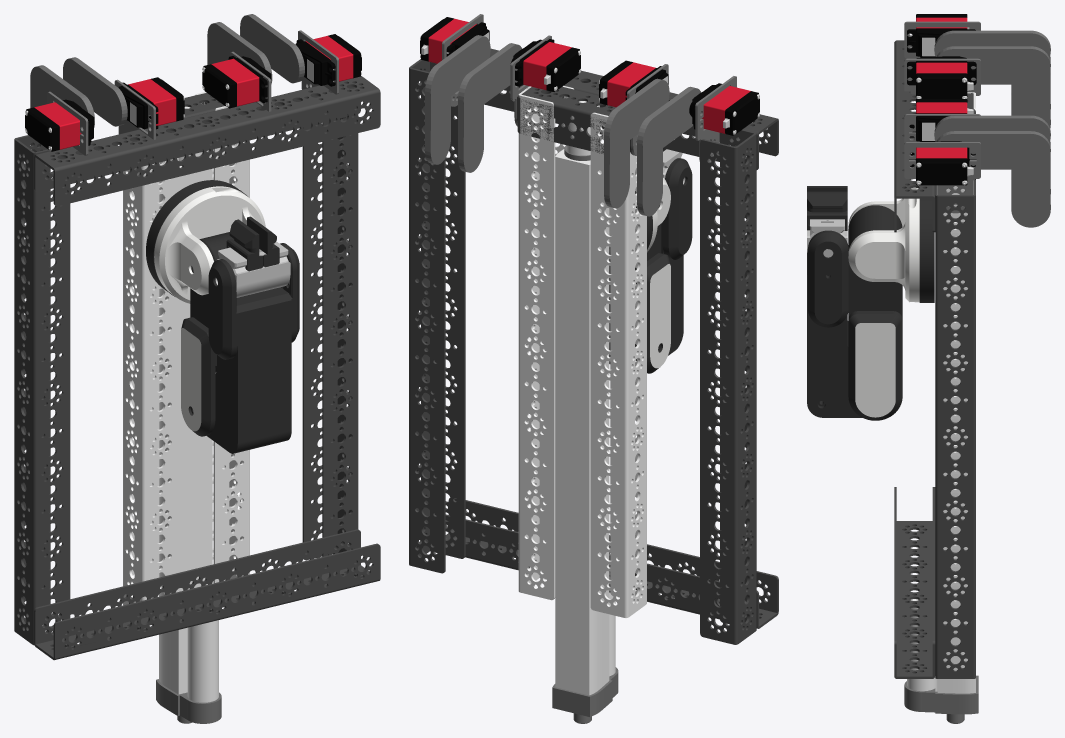
File: axis-02.glb
The picture shows the model from 3 angles, left to right: view 1: azimuth 30°, elevation 25°; view 2: azimuth 150°, elevation 25°; view 3: azimuth 270°, elevation 25°; orthographic projection. The views are drawn at different scales.
Parts seen in each view (by area): view 1: Circle, Robot Arm; view 2: Circle, Robot Arm; view 3: Circle, Robot Arm.
Boxes of the visible parts, <box> form: Circle: <box>14,14,380,723</box>; Robot Arm: <box>146,180,299,453</box>; Circle: <box>409,14,778,723</box>; Robot Arm: <box>609,148,692,373</box>; Circle: <box>894,14,1050,723</box>; Robot Arm: <box>807,186,934,420</box>.
Bounding box in the file's own units: 2.88 × 5.5 × 1.9.
2 materials, 2 textured.
